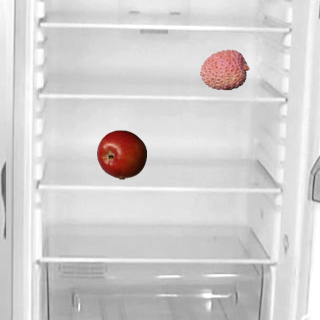Apple Braeburn: (96, 129, 146, 179)
Lychee: (199, 44, 249, 94)
